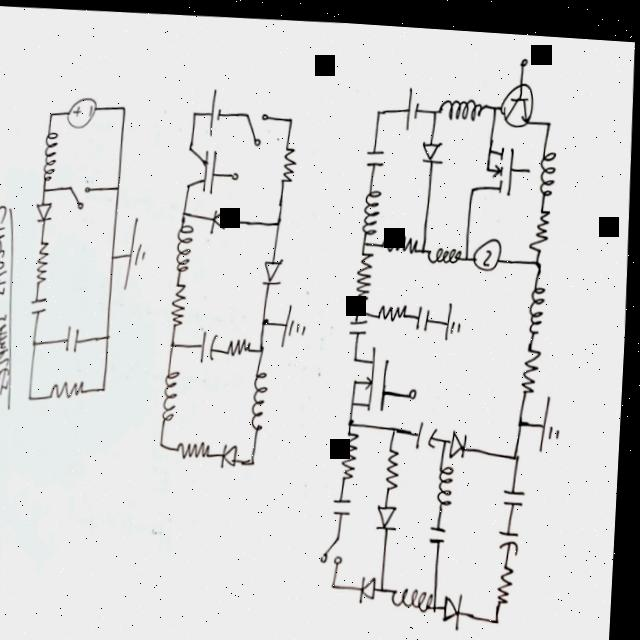capacitor: (196, 310, 223, 367), (413, 408, 443, 450), (426, 509, 460, 546), (497, 517, 531, 554), (332, 483, 362, 522), (358, 134, 391, 169), (62, 316, 88, 358), (505, 472, 531, 507), (415, 295, 435, 332), (26, 291, 53, 318), (345, 309, 374, 334)
diode: (443, 580, 475, 632), (206, 196, 234, 241), (357, 561, 385, 603), (217, 430, 245, 470), (375, 493, 405, 529), (416, 130, 446, 166), (259, 250, 288, 287), (450, 417, 472, 455), (32, 194, 56, 228)
ground: (121, 206, 155, 296), (538, 376, 575, 457), (278, 291, 315, 360), (439, 295, 470, 346)
inductor: (436, 82, 485, 129), (247, 359, 277, 433), (157, 365, 186, 422), (391, 575, 441, 608), (358, 175, 385, 234), (528, 265, 549, 335), (534, 138, 561, 192), (172, 216, 197, 273), (426, 229, 467, 262), (41, 124, 62, 185), (437, 454, 463, 503)
mosfet: (346, 336, 402, 410), (480, 127, 520, 197)
node: (262, 309, 274, 328), (33, 338, 43, 346)
resistor: (339, 423, 368, 482), (174, 427, 220, 462), (519, 338, 548, 393), (378, 221, 423, 255), (48, 370, 90, 406), (170, 275, 195, 332), (530, 196, 556, 250), (353, 243, 378, 298), (33, 231, 58, 286), (273, 136, 301, 185), (496, 555, 525, 602), (383, 433, 406, 490), (224, 324, 256, 362), (375, 292, 412, 323)
source: (62, 88, 101, 133), (469, 224, 504, 273), (399, 75, 426, 128), (205, 76, 225, 136)
switch: (235, 91, 277, 148), (319, 527, 352, 574), (64, 174, 98, 213)
transistor: (180, 135, 222, 202), (496, 65, 540, 128)
